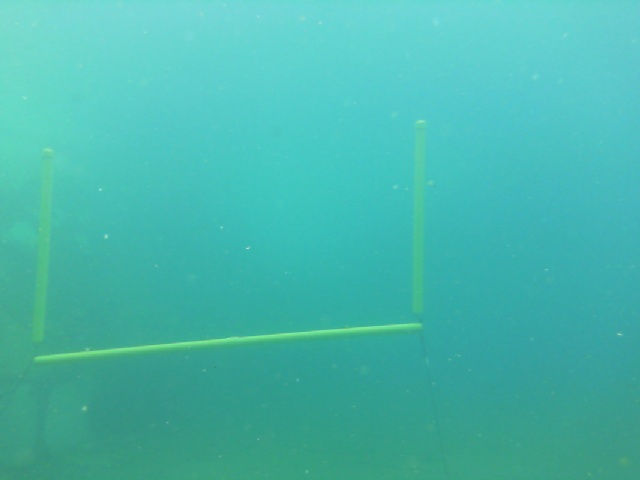channel: (29, 119, 429, 370)
